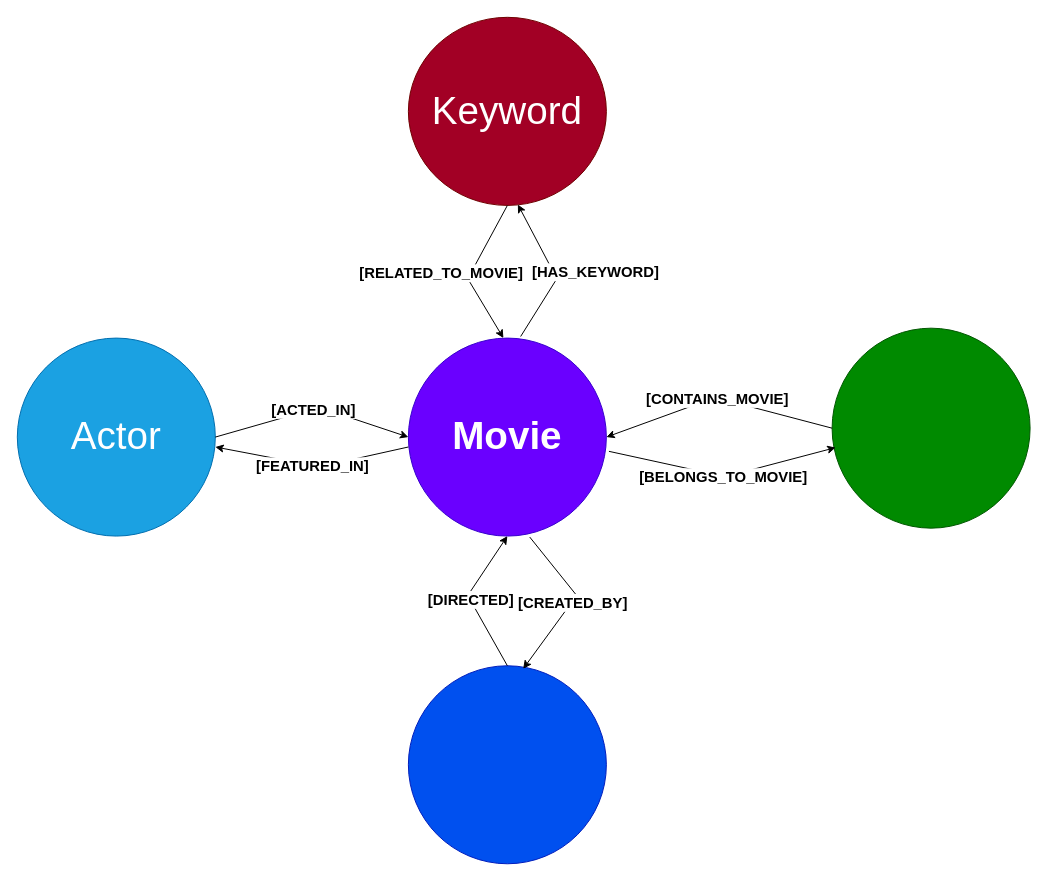
The diagram is 1047 pixels wide and 881 high, and some of its shapes have lost their labels. Each missing label, with the centre of its shape:
"Director" belongs at point 506,764.
"Genre" belongs at point 930,427.
